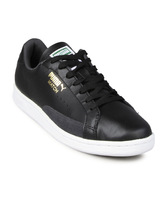shoes: (5, 38, 158, 157)
